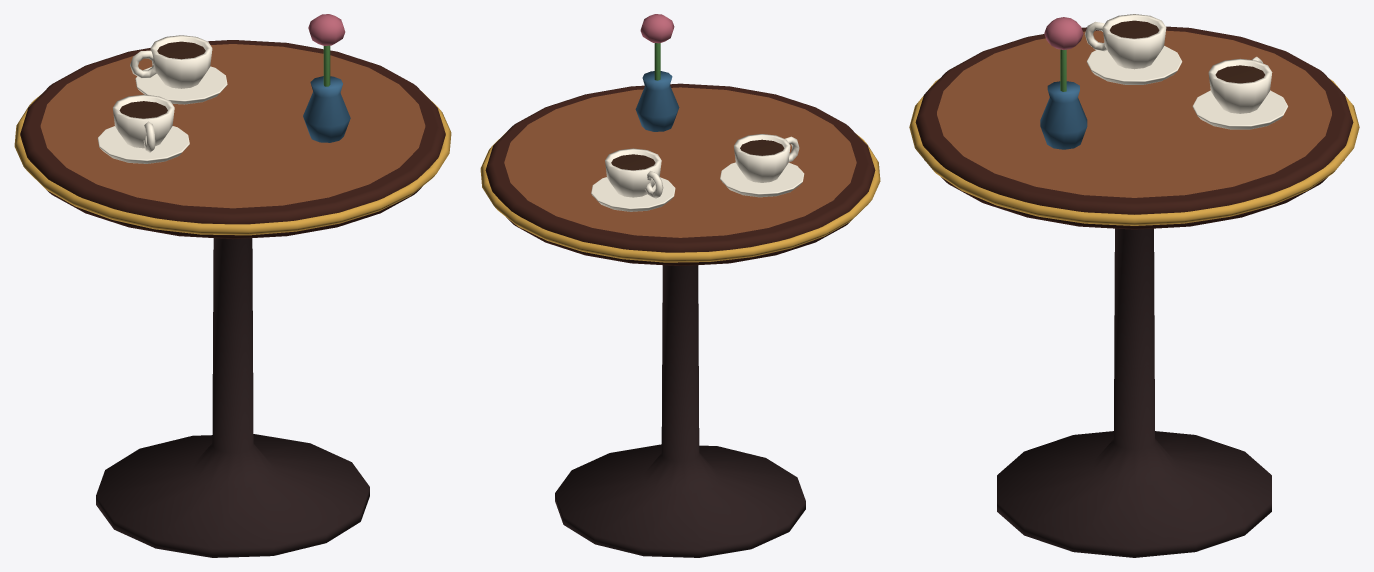
File: cafe-table.glb
The picture shows the model from 3 angles, left to right: view 1: azimuth 30°, elevation 25°; view 2: azimuth 150°, elevation 25°; view 3: azimuth 270°, elevation 25°; orthographic projection. The views are drawn at different scales.
Visible parts, largest first — view 1: cafe-table; view 2: cafe-table; view 3: cafe-table.
Boxes of the visible parts, <box> form: cafe-table: <box>14,14,451,557</box>; cafe-table: <box>480,14,880,557</box>; cafe-table: <box>909,14,1359,557</box>.
Size of the model in its own units: 0.638 by 0.7954 by 0.638.
